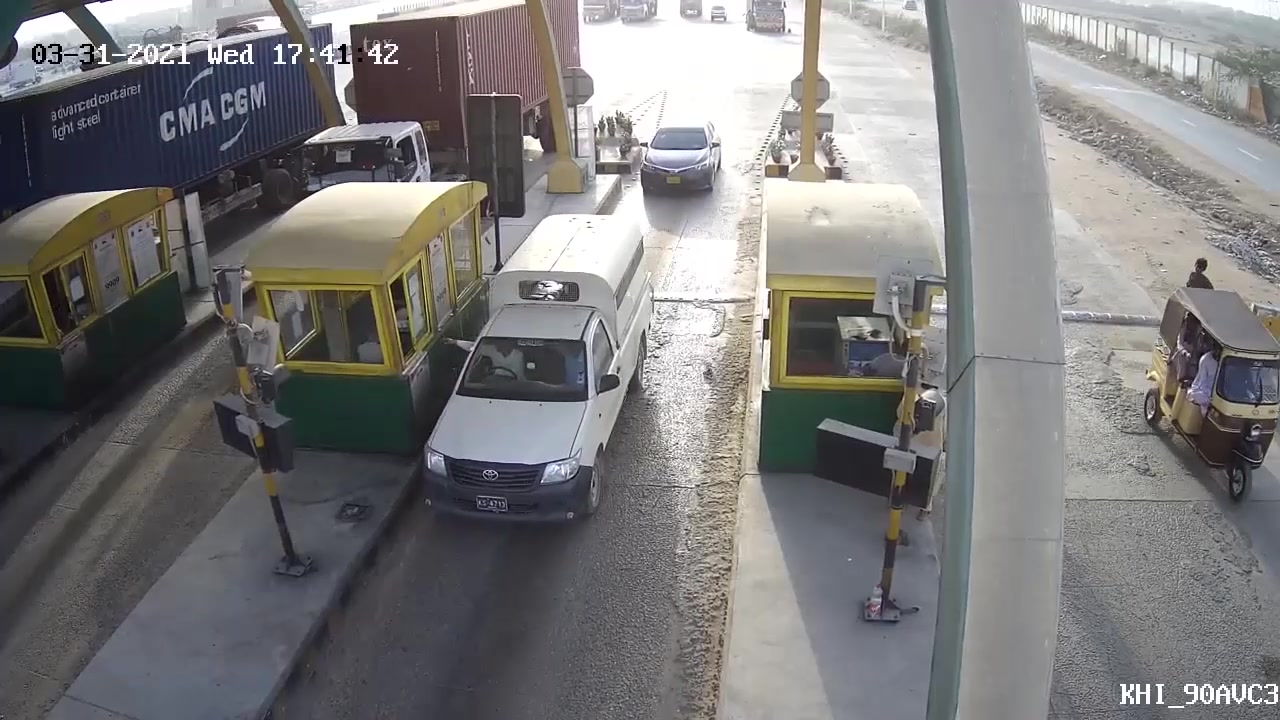F1: (414, 212, 655, 529), (632, 116, 723, 202)
